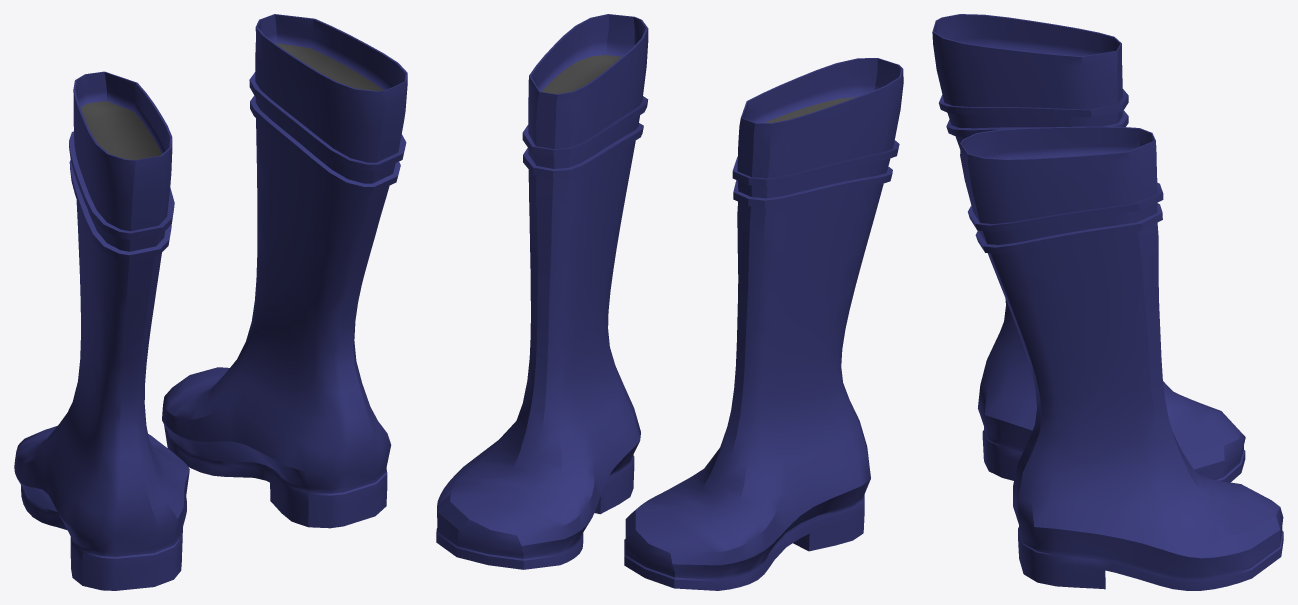
The model's file is SM_Boots_Pr_Blue.fbx.
3 renders of one model, left to right at view 1: azimuth 30°, elevation 25°; view 2: azimuth 150°, elevation 25°; view 3: azimuth 270°, elevation 25°, orthographic. The views are drawn at different scales.
Visible parts, largest first — view 1: SM_Boots_Pr_Blue; view 2: SM_Boots_Pr_Blue; view 3: SM_Boots_Pr_Blue.
Boxes of the visible parts, x1,y1,x2,y2 form: SM_Boots_Pr_Blue: (14,14,407,590); SM_Boots_Pr_Blue: (436,14,903,590); SM_Boots_Pr_Blue: (932,14,1283,590).
Size of the model in its own units: 39.41 by 49.43 by 37.05.
